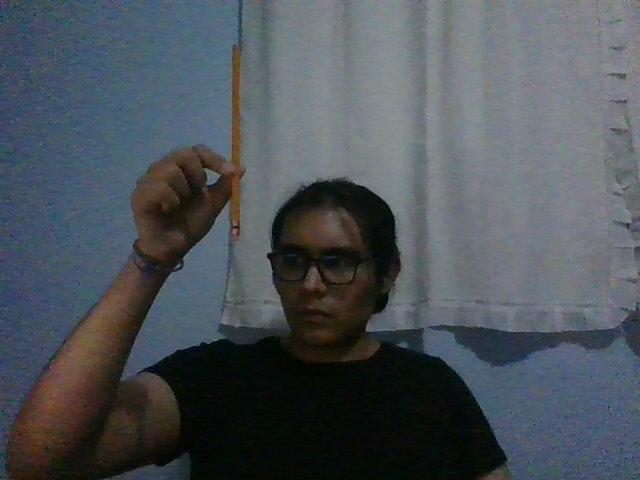lapiz: (231, 45, 242, 242)
